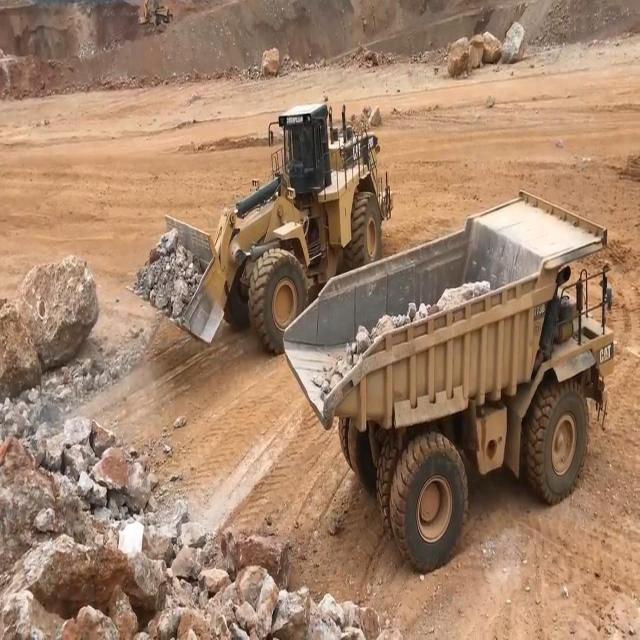Camion volquete: (283, 188, 615, 576)
pala cargadora: (126, 98, 395, 360)
